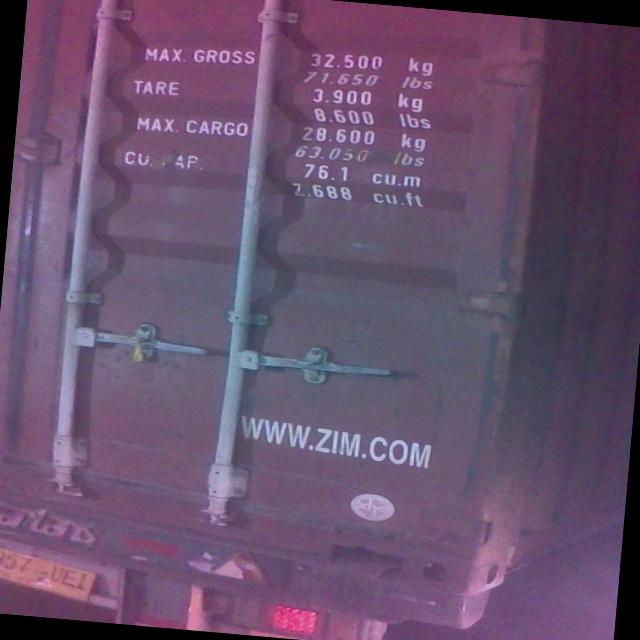seal: (124, 332, 154, 365)
